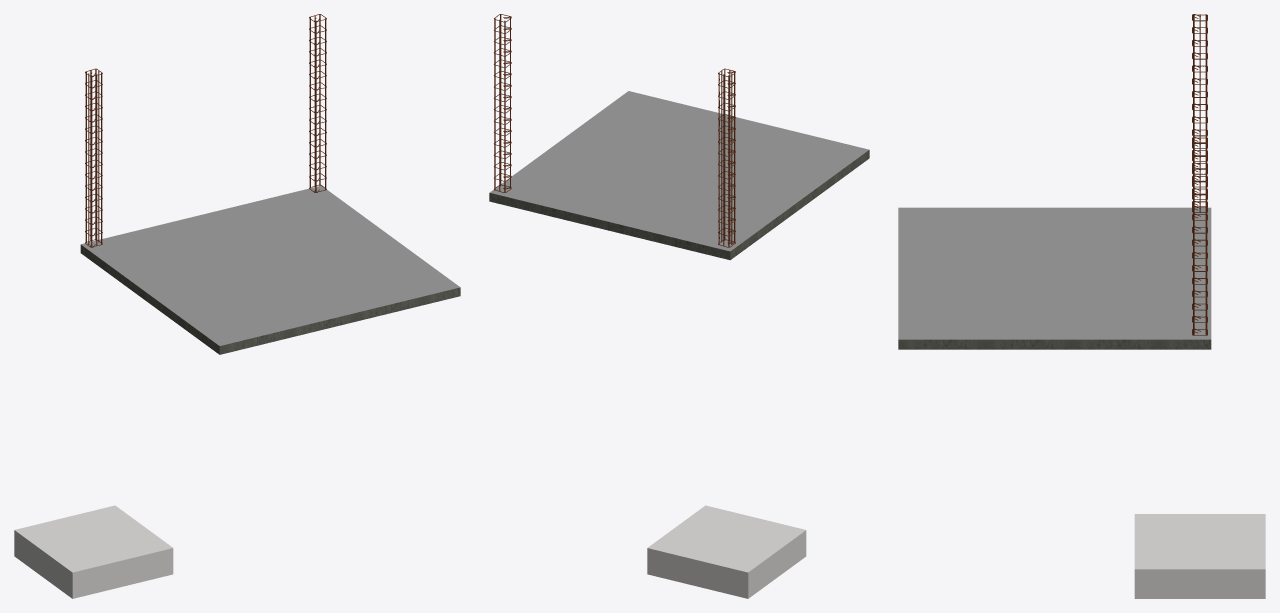
The picture shows the model from 3 angles, left to right: view 1: azimuth 30°, elevation 25°; view 2: azimuth 150°, elevation 25°; view 3: azimuth 270°, elevation 25°; orthographic projection. The views are drawn at different scales.
Visible parts, largest first — view 1: Floor Normal Slab 150mm [389706]001, Footing-Rectangular 1800 x 1800 x 450mm [329140]001, Rebar Bar H10 : Shape 52 [370817]_[319274]001, Rebar Bar H10 : Shape 52 [370794]_[319274]001; view 2: Floor Normal Slab 150mm [389706]001, Footing-Rectangular 1800 x 1800 x 450mm [329140]001, Rebar Bar H10 : Shape 52 [370817]_[319274]001, Rebar Bar H10 : Shape 52 [370794]_[319274]001; view 3: Floor Normal Slab 150mm [389706]001, Footing-Rectangular 1800 x 1800 x 450mm [329140]001, Rebar Bar H10 : Shape 52 [370817]_[319274]001, Rebar Bar H10 : Shape 52 [370794]_[319274]001, Rebar Bar H20 : Shape 00 [370818]001.
Boxes of the visible parts, x1,y1,x2,y2 form: Floor Normal Slab 150mm [389706]001: (80,185,460,354); Footing-Rectangular 1800 x 1800 x 450mm [329140]001: (14,505,173,598); Rebar Bar H10 : Shape 52 [370817]_[319274]001: (309,14,326,192); Rebar Bar H10 : Shape 52 [370794]_[319274]001: (85,68,102,247); Floor Normal Slab 150mm [389706]001: (489,91,869,260); Footing-Rectangular 1800 x 1800 x 450mm [329140]001: (647,505,806,598); Rebar Bar H10 : Shape 52 [370817]_[319274]001: (494,14,511,192); Rebar Bar H10 : Shape 52 [370794]_[319274]001: (718,68,735,247); Floor Normal Slab 150mm [389706]001: (898,207,1211,349); Footing-Rectangular 1800 x 1800 x 450mm [329140]001: (1134,514,1265,598); Rebar Bar H10 : Shape 52 [370817]_[319274]001: (1192,137,1207,335); Rebar Bar H10 : Shape 52 [370794]_[319274]001: (1192,14,1207,212); Rebar Bar H20 : Shape 00 [370818]001: (1205,142,1207,334).
Bounding box in the file's own units: 5.05 × 8.41 × 5.05.
4 materials, 2 textured.
